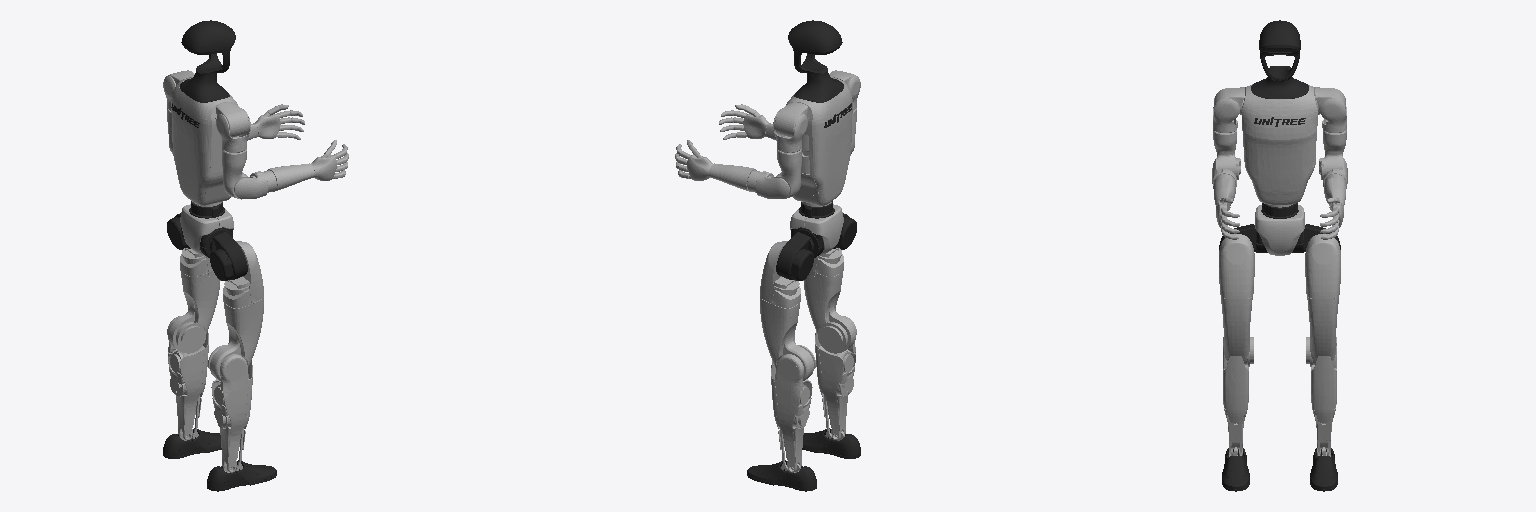
--- What the picture shows (computed from the rendered views, not written in the file) ---
The picture shows the robot from 3 angles, left to right: view 1: azimuth 30°, elevation 25°; view 2: azimuth 150°, elevation 25°; view 3: azimuth 270°, elevation 25°; orthographic projection.
Robot: g1_23dof — 33 links, 32 joints (23 revolute, 9 fixed); root link pelvis; default pose: every joint at zero.
Visible links, largest first — view 1: torso_link, right_knee_link, head_link, left_knee_link, left_hip_yaw_link, right_hip_yaw_link, right_wrist_roll_rubber_hand, right_hip_roll_link, right_hip_pitch_link, right_ankle_roll_link, left_wrist_roll_rubber_hand, pelvis_contour_link (+7 smaller); view 2: torso_link, left_knee_link, head_link, right_knee_link, right_hip_yaw_link, left_hip_yaw_link, left_wrist_roll_rubber_hand, left_hip_roll_link, left_hip_pitch_link, left_ankle_roll_link, right_wrist_roll_rubber_hand, pelvis_contour_link (+7 smaller); view 3: torso_link, head_link, left_hip_roll_link, right_hip_roll_link, left_knee_link, right_knee_link, left_hip_yaw_link, right_hip_yaw_link, pelvis_contour_link, left_wrist_roll_rubber_hand, right_wrist_roll_rubber_hand, left_ankle_roll_link (+6 smaller).
Boxes of the visible links, x1,y1,x2,y2 form: torso_link: [171, 77, 237, 196]; right_knee_link: [211, 354, 252, 472]; head_link: [180, 20, 235, 102]; left_knee_link: [167, 316, 208, 439]; left_hip_yaw_link: [168, 270, 220, 353]; right_hip_yaw_link: [208, 298, 263, 380]; right_wrist_roll_rubber_hand: [267, 140, 348, 191]; right_hip_roll_link: [223, 241, 263, 308]; right_hip_pitch_link: [210, 232, 247, 280]; right_ankle_roll_link: [207, 460, 276, 491]; left_wrist_roll_rubber_hand: [247, 104, 304, 140]; pelvis_contour_link: [180, 204, 233, 255]; torso_link: [786, 77, 852, 196]; left_knee_link: [771, 354, 812, 472]; head_link: [788, 20, 843, 102]; right_knee_link: [815, 316, 856, 439]; right_hip_yaw_link: [803, 270, 855, 353]; left_hip_yaw_link: [760, 298, 815, 380]; left_wrist_roll_rubber_hand: [675, 140, 756, 191]; left_hip_roll_link: [760, 241, 800, 308]; left_hip_pitch_link: [776, 232, 813, 280]; left_ankle_roll_link: [747, 460, 816, 491]; right_wrist_roll_rubber_hand: [719, 104, 776, 140]; pelvis_contour_link: [790, 204, 843, 255]; torso_link: [1240, 84, 1319, 194]; head_link: [1251, 20, 1308, 98]; left_hip_roll_link: [1305, 234, 1340, 298]; right_hip_roll_link: [1219, 234, 1254, 298]; left_knee_link: [1311, 337, 1336, 456]; right_knee_link: [1223, 337, 1248, 456]; left_hip_yaw_link: [1306, 297, 1338, 366]; right_hip_yaw_link: [1221, 297, 1253, 366]; pelvis_contour_link: [1255, 205, 1304, 255]; left_wrist_roll_rubber_hand: [1320, 178, 1345, 239]; right_wrist_roll_rubber_hand: [1214, 178, 1239, 239]; left_ankle_roll_link: [1310, 448, 1337, 491].
Size in the robot's own frame: 0.4417 by 0.3632 by 1.32 metres.
29 mesh visuals loaded from 29 distinct referenced files (29 binary STL).

The robot description file, URDF, robot "g1_23dof":
<robot name="g1_23dof">
  <mujoco>
    <compiler meshdir="meshes" discardvisual="false"/>
  </mujoco>

  <!-- [CAUTION] uncomment when convert to mujoco -->
  <!-- <link name="world"></link>
  <joint name="floating_base_joint" type="floating">
    <parent link="world"/>
    <child link="pelvis"/>
  </joint> -->

  <link name="pelvis">
    <inertial>
      <origin xyz="0 0 -0.07605" rpy="0 0 0"/>
      <mass value="3.813"/>
      <inertia ixx="0.010549" ixy="0" ixz="2.1E-06" iyy="0.0093089" iyz="0" izz="0.0079184"/>
    </inertial>
    <visual>
      <origin xyz="0 0 0" rpy="0 0 0"/>
      <geometry>
        <mesh filename="meshes/pelvis.STL"/>
      </geometry>
      <material name="dark">
        <color rgba="0.2 0.2 0.2 1"/>
      </material>
    </visual>
  </link>
  <link name="pelvis_contour_link">
    <inertial>
      <origin xyz="0 0 0" rpy="0 0 0"/>
      <mass value="0.001"/>
      <inertia ixx="1e-7" ixy="0" ixz="0" iyy="1e-7" iyz="0" izz="1e-7"/>
    </inertial>
    <visual>
      <origin xyz="0 0 0" rpy="0 0 0"/>
      <geometry>
        <mesh filename="meshes/pelvis_contour_link.STL"/>
      </geometry>
      <material name="white">
        <color rgba="0.7 0.7 0.7 1"/>
      </material>
    </visual>
    <collision>
      <origin xyz="0 0 0" rpy="0 0 0"/>
      <geometry>
        <mesh filename="meshes/pelvis_contour_link.STL"/>
      </geometry>
    </collision>
  </link>
  <joint name="pelvis_contour_joint" type="fixed">
    <parent link="pelvis"/>
    <child link="pelvis_contour_link"/>
  </joint>

  <!-- Legs -->
  <link name="left_hip_pitch_link">
    <inertial>
      <origin xyz="0.002741 0.047791 -0.02606" rpy="0 0 0"/>
      <mass value="1.35"/>
      <inertia ixx="0.001811" ixy="3.68E-05" ixz="-3.44E-05" iyy="0.0014193" iyz="0.000171" izz="0.0012812"/>
    </inertial>
    <visual>
      <origin xyz="0 0 0" rpy="0 0 0"/>
      <geometry>
        <mesh filename="meshes/left_hip_pitch_link.STL"/>
      </geometry>
      <material name="dark">
        <color rgba="0.2 0.2 0.2 1"/>
      </material>
    </visual>
    <collision>
      <origin xyz="0 0 0" rpy="0 0 0"/>
      <geometry>
        <mesh filename="meshes/left_hip_pitch_link.STL"/>
      </geometry>
    </collision>
  </link>
  <joint name="left_hip_pitch_joint" type="revolute">
    <origin xyz="0 0.064452 -0.1027" rpy="0 0 0"/>
    <parent link="pelvis"/>
    <child link="left_hip_pitch_link"/>
    <axis xyz="0 1 0"/>
    <limit lower="-2.5307" upper="2.8798" effort="88" velocity="32"/>
  </joint>
  <link name="left_hip_roll_link">
    <inertial>
      <origin xyz="0.029812 -0.001045 -0.087934" rpy="0 0 0"/>
      <mass value="1.52"/>
      <inertia ixx="0.0023773" ixy="-3.8E-06" ixz="-0.0003908" iyy="0.0024123" iyz="1.84E-05" izz="0.0016595"/>
    </inertial>
    <visual>
      <origin xyz="0 0 0" rpy="0 0 0"/>
      <geometry>
        <mesh filename="meshes/left_hip_roll_link.STL"/>
      </geometry>
      <material name="white">
        <color rgba="0.7 0.7 0.7 1"/>
      </material>
    </visual>
    <collision>
      <origin xyz="0 0 0" rpy="0 0 0"/>
      <geometry>
        <mesh filename="meshes/left_hip_roll_link.STL"/>
      </geometry>
    </collision>
  </link>
  <joint name="left_hip_roll_joint" type="revolute">
    <origin xyz="0 0.052 -0.030465" rpy="0 -0.1749 0"/>
    <parent link="left_hip_pitch_link"/>
    <child link="left_hip_roll_link"/>
    <axis xyz="1 0 0"/>
    <limit lower="-0.5236" upper="2.9671" effort="88" velocity="32"/>
  </joint>
  <link name="left_hip_yaw_link">
    <inertial>
      <origin xyz="-0.057709 -0.010981 -0.15078" rpy="0 0 0"/>
      <mass value="1.702"/>
      <inertia ixx="0.0057774" ixy="-0.0005411" ixz="-0.0023948" iyy="0.0076124" iyz="-0.0007072" izz="0.003149"/>
    </inertial>
    <visual>
      <origin xyz="0 0 0" rpy="0 0 0"/>
      <geometry>
        <mesh filename="meshes/left_hip_yaw_link.STL"/>
      </geometry>
      <material name="white">
        <color rgba="0.7 0.7 0.7 1"/>
      </material>
    </visual>
    <collision>
      <origin xyz="0 0 0" rpy="0 0 0"/>
      <geometry>
        <mesh filename="meshes/left_hip_yaw_link.STL"/>
      </geometry>
    </collision>
  </link>
  <joint name="left_hip_yaw_joint" type="revolute">
    <origin xyz="0.025001 0 -0.12412" rpy="0 0 0"/>
    <parent link="left_hip_roll_link"/>
    <child link="left_hip_yaw_link"/>
    <axis xyz="0 0 1"/>
    <limit lower="-2.7576" upper="2.7576" effort="88" velocity="32"/>
  </joint>
  <link name="left_knee_link">
    <inertial>
      <origin xyz="0.005457 0.003964 -0.12074" rpy="0 0 0"/>
      <mass value="1.932"/>
      <inertia ixx="0.011329" ixy="4.82E-05" ixz="-4.49E-05" iyy="0.011277" iyz="-0.0007146" izz="0.0015168"/>
    </inertial>
    <visual>
      <origin xyz="0 0 0" rpy="0 0 0"/>
      <geometry>
        <mesh filename="meshes/left_knee_link.STL"/>
      </geometry>
      <material name="white">
        <color rgba="0.7 0.7 0.7 1"/>
      </material>
    </visual>
    <collision>
      <origin xyz="0 0 0" rpy="0 0 0"/>
      <geometry>
        <mesh filename="meshes/left_knee_link.STL"/>
      </geometry>
    </collision>
  </link>
  <joint name="left_knee_joint" type="revolute">
    <origin xyz="-0.078273 0.0021489 -0.17734" rpy="0 0.1749 0"/>
    <parent link="left_hip_yaw_link"/>
    <child link="left_knee_link"/>
    <axis xyz="0 1 0"/>
    <limit lower="-0.087267" upper="2.8798" effort="139" velocity="20"/>
  </joint>
  <link name="left_ankle_pitch_link">
    <inertial>
      <origin xyz="-0.007269 0 0.011137" rpy="0 0 0"/>
      <mass value="0.074"/>
      <inertia ixx="8.4E-06" ixy="0" ixz="-2.9E-06" iyy="1.89E-05" iyz="0" izz="1.26E-05"/>
    </inertial>
    <visual>
      <origin xyz="0 0 0" rpy="0 0 0"/>
      <geometry>
        <mesh filename="meshes/left_ankle_pitch_link.STL"/>
      </geometry>
      <material name="white">
        <color rgba="0.7 0.7 0.7 1"/>
      </material>
    </visual>
    <collision>
      <origin xyz="0 0 0" rpy="0 0 0"/>
      <geometry>
        <mesh filename="meshes/left_ankle_pitch_link.STL"/>
      </geometry>
    </collision>
  </link>
  <joint name="left_ankle_pitch_joint" type="revolute">
    <origin xyz="0 -9.4445E-05 -0.30001" rpy="0 0 0"/>
    <parent link="left_knee_link"/>
    <child link="left_ankle_pitch_link"/>
    <axis xyz="0 1 0"/>
    <limit lower="-0.87267" upper="0.5236" effort="50" velocity="37"/>
  </joint>
  <link name="left_ankle_roll_link">
    <inertial>
      <origin xyz="0.026505 0 -0.016425" rpy="0 0 0"/>
      <mass value="0.608"/>
      <inertia ixx="0.0002231" ixy="2E-07" ixz="8.91E-05" iyy="0.0016161" iyz="-1E-07" izz="0.0016667"/>
    </inertial>
    <visual>
      <origin xyz="0 0 0" rpy="0 0 0"/>
      <geometry>
        <mesh filename="meshes/left_ankle_roll_link.STL"/>
      </geometry>
      <material name="dark">
        <color rgba="0.2 0.2 0.2 1"/>
      </material>
    </visual>
    <collision>
      <origin xyz="-0.05 0.025 -0.03" rpy="0 0 0"/>
      <geometry>
        <sphere radius="0.005"/>
      </geometry>
    </collision>
    <collision>
      <origin xyz="-0.05 -0.025 -0.03" rpy="0 0 0"/>
      <geometry>
        <sphere radius="0.005"/>
      </geometry>
    </collision>
    <collision>
      <origin xyz="0.12 0.03 -0.03" rpy="0 0 0"/>
      <geometry>
        <sphere radius="0.005"/>
      </geometry>
    </collision>
    <collision>
      <origin xyz="0.12 -0.03 -0.03" rpy="0 0 0"/>
      <geometry>
        <sphere radius="0.005"/>
      </geometry>
    </collision>
  </link>
  <joint name="left_ankle_roll_joint" type="revolute">
    <origin xyz="0 0 -0.017558" rpy="0 0 0"/>
    <parent link="left_ankle_pitch_link"/>
    <child link="left_ankle_roll_link"/>
    <axis xyz="1 0 0"/>
    <limit lower="-0.2618" upper="0.2618" effort="50" velocity="37"/>
  </joint>
  <link name="right_hip_pitch_link">
    <inertial>
      <origin xyz="0.002741 -0.047791 -0.02606" rpy="0 0 0"/>
      <mass value="1.35"/>
      <inertia ixx="0.001811" ixy="-3.68E-05" ixz="-3.44E-05" iyy="0.0014193" iyz="-0.000171" izz="0.0012812"/>
    </inertial>
    <visual>
      <origin xyz="0 0 0" rpy="0 0 0"/>
      <geometry>
        <mesh filename="meshes/right_hip_pitch_link.STL"/>
      </geometry>
      <material name="dark">
        <color rgba="0.2 0.2 0.2 1"/>
      </material>
    </visual>
    <collision>
      <origin xyz="0 0 0" rpy="0 0 0"/>
      <geometry>
        <mesh filename="meshes/right_hip_pitch_link.STL"/>
      </geometry>
    </collision>
  </link>
  <joint name="right_hip_pitch_joint" type="revolute">
    <origin xyz="0 -0.064452 -0.1027" rpy="0 0 0"/>
    <parent link="pelvis"/>
    <child link="right_hip_pitch_link"/>
    <axis xyz="0 1 0"/>
    <limit lower="-2.5307" upper="2.8798" effort="88" velocity="32"/>
  </joint>
  <link name="right_hip_roll_link">
    <inertial>
      <origin xyz="0.029812 0.001045 -0.087934" rpy="0 0 0"/>
      <mass value="1.52"/>
      <inertia ixx="0.0023773" ixy="3.8E-06" ixz="-0.0003908" iyy="0.0024123" iyz="-1.84E-05" izz="0.0016595"/>
    </inertial>
    <visual>
      <origin xyz="0 0 0" rpy="0 0 0"/>
      <geometry>
        <mesh filename="meshes/right_hip_roll_link.STL"/>
      </geometry>
      <material name="white">
        <color rgba="0.7 0.7 0.7 1"/>
      </material>
    </visual>
    <collision>
      <origin xyz="0 0 0" rpy="0 0 0"/>
      <geometry>
        <mesh filename="meshes/right_hip_roll_link.STL"/>
      </geometry>
    </collision>
  </link>
  <joint name="right_hip_roll_joint" type="revolute">
    <origin xyz="0 -0.052 -0.030465" rpy="0 -0.1749 0"/>
    <parent link="right_hip_pitch_link"/>
    <child link="right_hip_roll_link"/>
    <axis xyz="1 0 0"/>
    <limit lower="-2.9671" upper="0.5236" effort="88" velocity="32"/>
  </joint>
  <link name="right_hip_yaw_link">
    <inertial>
      <origin xyz="-0.057709 0.010981 -0.15078" rpy="0 0 0"/>
      <mass value="1.702"/>
      <inertia ixx="0.0057774" ixy="0.0005411" ixz="-0.0023948" iyy="0.0076124" iyz="0.0007072" izz="0.003149"/>
    </inertial>
    <visual>
      <origin xyz="0 0 0" rpy="0 0 0"/>
      <geometry>
        <mesh filename="meshes/right_hip_yaw_link.STL"/>
      </geometry>
      <material name="white">
        <color rgba="0.7 0.7 0.7 1"/>
      </material>
    </visual>
    <collision>
      <origin xyz="0 0 0" rpy="0 0 0"/>
      <geometry>
        <mesh filename="meshes/right_hip_yaw_link.STL"/>
      </geometry>
    </collision>
  </link>
  <joint name="right_hip_yaw_joint" type="revolute">
    <origin xyz="0.025001 0 -0.12412" rpy="0 0 0"/>
    <parent link="right_hip_roll_link"/>
    <child link="right_hip_yaw_link"/>
    <axis xyz="0 0 1"/>
    <limit lower="-2.7576" upper="2.7576" effort="88" velocity="32"/>
  </joint>
  <link name="right_knee_link">
    <inertial>
      <origin xyz="0.005457 -0.003964 -0.12074" rpy="0 0 0"/>
      <mass value="1.932"/>
      <inertia ixx="0.011329" ixy="-4.82E-05" ixz="4.49E-05" iyy="0.011277" iyz="0.0007146" izz="0.0015168"/>
    </inertial>
    <visual>
      <origin xyz="0 0 0" rpy="0 0 0"/>
      <geometry>
        <mesh filename="meshes/right_knee_link.STL"/>
      </geometry>
      <material name="white">
        <color rgba="0.7 0.7 0.7 1"/>
      </material>
    </visual>
    <collision>
      <origin xyz="0 0 0" rpy="0 0 0"/>
      <geometry>
        <mesh filename="meshes/right_knee_link.STL"/>
      </geometry>
    </collision>
  </link>
  <joint name="right_knee_joint" type="revolute">
    <origin xyz="-0.078273 -0.0021489 -0.17734" rpy="0 0.1749 0"/>
    <parent link="right_hip_yaw_link"/>
    <child link="right_knee_link"/>
    <axis xyz="0 1 0"/>
    <limit lower="-0.087267" upper="2.8798" effort="139" velocity="20"/>
  </joint>
  <link name="right_ankle_pitch_link">
    <inertial>
      <origin xyz="-0.007269 0 0.011137" rpy="0 0 0"/>
      <mass value="0.074"/>
      <inertia ixx="8.4E-06" ixy="0" ixz="-2.9E-06" iyy="1.89E-05" iyz="0" izz="1.26E-05"/>
    </inertial>
    <visual>
      <origin xyz="0 0 0" rpy="0 0 0"/>
      <geometry>
        <mesh filename="meshes/right_ankle_pitch_link.STL"/>
      </geometry>
      <material name="white">
        <color rgba="0.7 0.7 0.7 1"/>
      </material>
    </visual>
    <collision>
      <origin xyz="0 0 0" rpy="0 0 0"/>
      <geometry>
        <mesh filename="meshes/right_ankle_pitch_link.STL"/>
      </geometry>
    </collision>
  </link>
  <joint name="right_ankle_pitch_joint" type="revolute">
    <origin xyz="0 9.4445E-05 -0.30001" rpy="0 0 0"/>
    <parent link="right_knee_link"/>
    <child link="right_ankle_pitch_link"/>
    <axis xyz="0 1 0"/>
    <limit lower="-0.87267" upper="0.5236" effort="50" velocity="37"/>
  </joint>
  <link name="right_ankle_roll_link">
    <inertial>
      <origin xyz="0.026505 0 -0.016425" rpy="0 0 0"/>
      <mass value="0.608"/>
      <inertia ixx="0.0002231" ixy="-2E-07" ixz="8.91E-05" iyy="0.0016161" iyz="1E-07" izz="0.0016667"/>
    </inertial>
    <visual>
      <origin xyz="0 0 0" rpy="0 0 0"/>
      <geometry>
        <mesh filename="meshes/right_ankle_roll_link.STL"/>
      </geometry>
      <material name="dark">
        <color rgba="0.2 0.2 0.2 1"/>
      </material>
    </visual>
    <collision>
      <origin xyz="-0.05 0.025 -0.03" rpy="0 0 0"/>
      <geometry>
        <sphere radius="0.005"/>
      </geometry>
    </collision>
    <collision>
      <origin xyz="-0.05 -0.025 -0.03" rpy="0 0 0"/>
      <geometry>
        <sphere radius="0.005"/>
      </geometry>
    </collision>
    <collision>
      <origin xyz="0.12 0.03 -0.03" rpy="0 0 0"/>
      <geometry>
        <sphere radius="0.005"/>
      </geometry>
    </collision>
    <collision>
      <origin xyz="0.12 -0.03 -0.03" rpy="0 0 0"/>
      <geometry>
        <sphere radius="0.005"/>
      </geometry>
    </collision>
  </link>
  <joint name="right_ankle_roll_joint" type="revolute">
    <origin xyz="0 0 -0.017558" rpy="0 0 0"/>
    <parent link="right_ankle_pitch_link"/>
    <child link="right_ankle_roll_link"/>
    <axis xyz="1 0 0"/>
    <limit lower="-0.2618" upper="0.2618" effort="50" velocity="37"/>
  </joint>

  <!-- Torso -->
  <link name="waist_yaw_fixed_link">
    <inertial>
      <origin xyz="0.003964 0 0.018769" rpy="0 0 0"/>
      <mass value="0.244"/>
      <inertia ixx="9.9587E-05" ixy="-1.833E-06" ixz="-1.2617E-05" iyy="0.00012411" iyz="-1.18E-07" izz="0.00015586"/>
    </inertial>
    <visual>
      <origin xyz="0 0 0" rpy="0 0 0"/>
      <geometry>
        <mesh filename="meshes/waist_yaw_link.STL"/>
      </geometry>
      <material name="white">
        <color rgba="0.7 0.7 0.7 1"/>
      </material>
    </visual>
  </link>
  <joint name="waist_yaw_fixed_joint" type="fixed">
    <origin xyz="0.0039635 0 -0.054" rpy="0 0 0"/>
    <parent link="torso_link"/>
    <child link="waist_yaw_fixed_link"/>
  </joint>
  <joint name="waist_yaw_joint" type="revolute">
    <origin xyz="-0.0039635 0 0.054" rpy="0 0 0"/>
    <parent link="pelvis"/>
    <child link="torso_link"/>
    <axis xyz="0 0 1"/>
    <limit lower="-2.618" upper="2.618" effort="88" velocity="32"/>
  </joint>
  <link name="torso_link">
    <inertial>
      <origin xyz="0.002601 0.000257 0.153719" rpy="0 0 0"/>
      <mass value="8.562"/>
      <inertia ixx="0.065674966" ixy="-8.597E-05" ixz="-0.001737252" iyy="0.053535188" iyz="8.6899E-05" izz="0.030808125"/>
    </inertial>
    <visual>
      <origin xyz="0 0 0" rpy="0 0 0"/>
      <geometry>
        <mesh filename="meshes/torso_link.STL"/>
      </geometry>
      <material name="white">
        <color rgba="0.7 0.7 0.7 1"/>
      </material>
    </visual>
    <collision>
      <origin xyz="0 0 0" rpy="0 0 0"/>
      <geometry>
        <mesh filename="meshes/torso_link.STL"/>
      </geometry>
    </collision>
  </link>

  <!-- LOGO -->
  <joint name="logo_joint" type="fixed">
    <origin xyz="0.0039635 0 -0.054" rpy="0 0 0"/>
    <parent link="torso_link"/>
    <child link="logo_link"/>
  </joint>
  <link name="logo_link">
    <inertial>
      <origin xyz="0 0 0" rpy="0 0 0"/>
      <mass value="0.001"/>
      <inertia ixx="1e-7" ixy="0" ixz="0" iyy="1e-7" iyz="0" izz="1e-7"/>
    </inertial>
    <visual>
      <origin xyz="0 0 0" rpy="0 0 0"/>
      <geometry>
        <mesh filename="meshes/logo_link.STL"/>
      </geometry>
      <material name="dark">
        <color rgba="0.2 0.2 0.2 1"/>
      </material>
    </visual>
    <collision>
      <origin xyz="0 0 0" rpy="0 0 0"/>
      <geometry>
        <mesh filename="meshes/logo_link.STL"/>
      </geometry>
    </collision>
  </link>

  <!-- Head -->
  <link name="head_link">
    <inertial>
      <origin xyz="0.005267 0.000299 0.449869" rpy="0 0 0"/>
      <mass value="1.036"/>
      <inertia ixx="0.004085051" ixy="-2.543E-06" ixz="-6.9455E-05" iyy="0.004185212" iyz="-3.726E-06" izz="0.001807911"/>
    </inertial>
    <visual>
      <origin xyz="0 0 0" rpy="0 0 0"/>
      <geometry>
        <mesh filename="meshes/head_link.STL"/>
      </geometry>
      <material name="dark">
        <color rgba="0.2 0.2 0.2 1"/>
      </material>
    </visual>
    <collision>
      <origin xyz="0 0 0" rpy="0 0 0"/>
      <geometry>
        <mesh filename="meshes/head_link.STL"/>
      </geometry>
    </collision>
  </link>
  <joint name="head_joint" type="fixed">
    <origin xyz="0.0039635 0 -0.054" rpy="0 0 0"/>
    <parent link="torso_link"/>
    <child link="head_link"/>
  </joint>

  <!-- Waist Support -->
  <link name="waist_support_link">
    <inertial>
      <origin xyz="0 0 0" rpy="0 0 0"/>
      <mass value="0.001"/>
      <inertia ixx="1e-7" ixy="0" ixz="0" iyy="1e-7" iyz="0" izz="1e-7"/>
    </inertial>
    <visual>
      <origin xyz="0 0 0" rpy="0 0 0"/>
      <geometry>
        <mesh filename="meshes/waist_support_link.STL"/>
      </geometry>
      <material name="white">
        <color rgba="0.7 0.7 0.7 1"/>
      </material>
    </visual>
    <collision>
      <origin xyz="0 0 0" rpy="0 0 0"/>
      <geometry>
        <mesh filename="meshes/waist_support_link.STL"/>
      </geometry>
    </collision>
  </link>
  <joint name="waist_support_joint" type="fixed">
    <origin xyz="0.0039635 0 -0.054" rpy="0 0 0"/>
    <parent link="torso_link"/>
    <child link="waist_support_link"/>
  </joint>

  <!-- IMU -->
  <link name="imu_in_torso"></link>
  <joint name="imu_in_torso_joint" type="fixed">
    <origin xyz="-0.03959 -0.00224 0.13792" rpy="0 0 0"/>
    <parent link="torso_link"/>
    <child link="imu_in_torso"/>
  </joint>

  <link name="imu_in_pelvis"></link>
  <joint name="imu_in_pelvis_joint" type="fixed">
    <origin xyz="0.04525 0 -0.08339" rpy="0 0 0"/>
    <parent link="pelvis"/>
    <child link="imu_in_pelvis"/>
  </joint>

  <!-- d435 -->
  <link name="d435_link"></link>
  <joint name="d435_joint" type="fixed">
    <origin xyz="0.0576235 0.01753 0.41987" rpy="0 0.8307767239493009 0"/>
    <parent link="torso_link"/>
    <child link="d435_link"/>
  </joint>

  <!-- mid360 -->
  <link name="mid360_link"></link>
  <joint name="mid360_joint" type="fixed">
    <origin xyz="0.0002835 0.00003 0.40618" rpy="0 0.04014257279586953 0"/>
    <parent link="torso_link"/>
    <child link="mid360_link"/>
  </joint>

  <!-- Arm -->
  <link name="left_shoulder_pitch_link">
    <inertial>
      <origin xyz="0 0.035892 -0.011628" rpy="0 0 0"/>
      <mass value="0.718"/>
      <inertia ixx="0.0004291" ixy="-9.2E-06" ixz="6.4E-06" iyy="0.000453" iyz="2.26E-05" izz="0.000423"/>
    </inertial>
    <visual>
      <origin xyz="0 0 0" rpy="0 0 0"/>
      <geometry>
        <mesh filename="meshes/left_shoulder_pitch_link.STL"/>
      </geometry>
      <material name="white">
        <color rgba="0.7 0.7 0.7 1"/>
      </material>
    </visual>
    <collision>
      <origin xyz="0 0.04 -0.01" rpy="0 1.5707963267948966 0"/>
      <geometry>
        <cylinder radius="0.03" length="0.05"/>
      </geometry>
    </collision>
  </link>
  <joint name="left_shoulder_pitch_joint" type="revolute">
    <origin xyz="0.0039563 0.10022 0.23778" rpy="0.27931 5.4949E-05 -0.00019159"/>
    <parent link="torso_link"/>
    <child link="left_shoulder_pitch_link"/>
    <axis xyz="0 1 0"/>
    <limit lower="-3.0892" upper="2.6704" effort="25" velocity="37"/>
  </joint>
  <link name="left_shoulder_roll_link">
    <inertial>
      <origin xyz="-0.000227 0.00727 -0.063243" rpy="0 0 0"/>
      <mass value="0.643"/>
      <inertia ixx="0.0006177" ixy="-1E-06" ixz="8.7E-06" iyy="0.0006912" iyz="-5.3E-06" izz="0.0003894"/>
    </inertial>
    <visual>
      <origin xyz="0 0 0" rpy="0 0 0"/>
      <geometry>
        <mesh filename="meshes/left_shoulder_roll_link.STL"/>
      </geometry>
      <material name="white">
        <color rgba="0.7 0.7 0.7 1"/>
      </material>
    </visual>
    <collision>
      <origin xyz="-0.004 0.006 -0.053" rpy="0 0 0"/>
      <geometry>
        <cylinder radius="0.03" length="0.03"/>
      </geometry>
    </collision>
  </link>
  <joint name="left_shoulder_roll_joint" type="revolute">
    <origin xyz="0 0.038 -0.013831" rpy="-0.27925 0 0"/>
    <parent link="left_shoulder_pitch_link"/>
    <child link="left_shoulder_roll_link"/>
    <axis xyz="1 0 0"/>
    <limit lower="-1.5882" upper="2.2515" effort="25" velocity="37"/>
  </joint>
  <link name="left_shoulder_yaw_link">
    <inertial>
      <origin xyz="0.010773 -0.002949 -0.072009" rpy="0 0 0"/>
      <mass value="0.734"/>
      <inertia ixx="0.0009988" ixy="7.9E-06" ixz="0.0001412" iyy="0.0010605" iyz="-2.86E-05" izz="0.0004354"/>
    </inertial>
    <visual>
      <origin xyz="0 0 0" rpy="0 0 0"/>
      <geometry>
        <mesh filename="meshes/left_shoulder_yaw_link.STL"/>
      </geometry>
      <material name="white">
        <color rgba="0.7 0.7 0.7 1"/>
      </material>
    </visual>
    <collision>
      <origin xyz="0 0 0" rpy="0 0 0"/>
      <geometry>
        <mesh filename="meshes/left_shoulder_yaw_link.STL"/>
      </geometry>
    </collision>
  </link>
  <joint name="left_shoulder_yaw_joint" type="revolute">
    <origin xyz="0 0.00624 -0.1032" rpy="0 0 0"/>
    <parent link="left_shoulder_roll_link"/>
    <child link="left_shoulder_yaw_link"/>
    <axis xyz="0 0 1"/>
    <limit lower="-2.618" upper="2.618" effort="25" velocity="37"/>
  </joint>
  <link name="left_elbow_link">
    <inertial>
      <origin xyz="0.064956 0.004454 -0.010062" rpy="0 0 0"/>
      <mass value="0.6"/>
      <inertia ixx="0.0002891" ixy="6.53E-05" ixz="1.72E-05" iyy="0.0004152" iyz="-5.6E-06" izz="0.0004197"/>
    </inertial>
    <visual>
      <origin xyz="0 0 0" rpy="0 0 0"/>
      <geometry>
        <mesh filename="meshes/left_elbow_link.STL"/>
      </geometry>
      <material name="white">
        <color rgba="0.7 0.7 0.7 1"/>
      </material>
    </visual>
    <collision>
      <origin xyz="0 0 0" rpy="0 0 0"/>
      <geometry>
        <mesh filename="meshes/left_elbow_link.STL"/>
      </geometry>
    </collision>
  </link>
  <joint name="left_elbow_joint" type="revolute">
    <origin xyz="0.015783 0 -0.080518" rpy="0 0 0"/>
    <parent link="left_shoulder_yaw_link"/>
    <child link="left_elbow_link"/>
    <axis xyz="0 1 0"/>
    <limit lower="-1.0472" upper="2.0944" effort="25" velocity="37"/>
  </joint>
  <joint name="left_wrist_roll_joint" type="revolute">
    <origin xyz="0.100 0.00188791 -0.010" rpy="0 0 0"/>
    <axis xyz="1 0 0"/>
    <parent link="left_elbow_link"/>
    <child link="left_wrist_roll_rubber_hand"/>
    <limit effort="25" velocity="37" lower="-1.972222054" upper="1.972222054"/>
  </joint>
  <link name="left_wrist_roll_rubber_hand">
    <inertial>
      <origin xyz="0.10794656650 0.00163511945 0.00202244863" rpy="0 0 0"/>
      <mass value="0.35692864"/>
      <inertia ixx="0.00019613494735" ixy="-0.00000419816908" ixz="-0.00003950860580" iyy="0.00200280358206" iyz="0.00000249774203" izz="0.00194181412808"/>
    </inertial>
    <visual>
      <origin xyz="0 0 0" rpy="0 0 0"/>
      <geometry>
        <mesh filename="meshes/left_wrist_roll_rubber_hand.STL"/>
      </geometry>
      <material name="white">
        <color rgba="0.7 0.7 0.7 1"/>
      </material>
    </visual>
    <collision>
      <origin xyz="0 0 0" rpy="0 0 0"/>
      <geometry>
        <mesh filename="meshes/left_wrist_roll_rubber_hand.STL"/>
      </geometry>
    </collision>
  </link>
  <link name="right_shoulder_pitch_link">
    <inertial>
      <origin xyz="0 -0.035892 -0.011628" rpy="0 0 0"/>
      <mass value="0.718"/>
      <inertia ixx="0.0004291" ixy="9.2E-06" ixz="6.4E-06" iyy="0.000453" iyz="-2.26E-05" izz="0.000423"/>
    </inertial>
    <visual>
      <origin xyz="0 0 0" rpy="0 0 0"/>
      <geometry>
        <mesh filename="meshes/right_shoulder_pitch_link.STL"/>
      </geometry>
      <material name="white">
        <color rgba="0.7 0.7 0.7 1"/>
      </material>
    </visual>
    <collision>
      <origin xyz="0 -0.04 -0.01" rpy="0 1.5707963267948966 0"/>
      <geometry>
        <cylinder radius="0.03" length="0.05"/>
      </geometry>
    </collision>
  </link>
  <joint name="right_shoulder_pitch_joint" type="revolute">
    <origin xyz="0.0039563 -0.10021 0.23778" rpy="-0.27931 5.4949E-05 0.00019159"/>
    <parent link="torso_link"/>
    <child link="right_shoulder_pitch_link"/>
    <axis xyz="0 1 0"/>
    <limit lower="-3.0892" upper="2.6704" effort="25" velocity="37"/>
  </joint>
  <link name="right_shoulder_roll_link">
    <inertial>
      <origin xyz="-0.000227 -0.00727 -0.063243" rpy="0 0 0"/>
      <mass value="0.643"/>
      <inertia ixx="0.0006177" ixy="1E-06" ixz="8.7E-06" iyy="0.0006912" iyz="5.3E-06" izz="0.0003894"/>
    </inertial>
    <visual>
      <origin xyz="0 0 0" rpy="0 0 0"/>
      <geometry>
        <mesh filename="meshes/right_shoulder_roll_link.STL"/>
      </geometry>
      <material name="white">
        <color rgba="0.7 0.7 0.7 1"/>
      </material>
    </visual>
    <collision>
      <origin xyz="-0.004 -0.006 -0.053" rpy="0 0 0"/>
      <geometry>
        <cylinder radius="0.03" length="0.03"/>
      </geometry>
    </collision>
  </link>
  <joint name="right_shoulder_roll_joint" type="revolute">
    <origin xyz="0 -0.038 -0.013831" rpy="0.27925 0 0"/>
    <parent link="right_shoulder_pitch_link"/>
    <child link="right_shoulder_roll_link"/>
    <axis xyz="1 0 0"/>
    <limit lower="-2.2515" upper="1.5882" effort="25" velocity="37"/>
  </joint>
  <link name="right_shoulder_yaw_link">
    <inertial>
      <origin xyz="0.010773 0.002949 -0.072009" rpy="0 0 0"/>
      <mass value="0.734"/>
      <inertia ixx="0.0009988" ixy="-7.9E-06" ixz="0.0001412" iyy="0.0010605" iyz="2.86E-05" izz="0.0004354"/>
    </inertial>
    <visual>
      <origin xyz="0 0 0" rpy="0 0 0"/>
      <geometry>
        <mesh filename="meshes/right_shoulder_yaw_link.STL"/>
      </geometry>
      <material name="white">
        <color rgba="0.7 0.7 0.7 1"/>
      </material>
    </visual>
    <collision>
      <origin xyz="0 0 0" rpy="0 0 0"/>
      <geometry>
        <mesh filename="meshes/right_shoulder_yaw_link.STL"/>
      </geometry>
    </collision>
  </link>
  <joint name="right_shoulder_yaw_joint" type="revolute">
    <origin xyz="0 -0.00624 -0.1032" rpy="0 0 0"/>
    <parent link="right_shoulder_roll_link"/>
    <child link="right_shoulder_yaw_link"/>
    <axis xyz="0 0 1"/>
    <limit lower="-2.618" upper="2.618" effort="25" velocity="37"/>
  </joint>
  <link name="right_elbow_link">
    <inertial>
      <origin xyz="0.064956 -0.004454 -0.010062" rpy="0 0 0"/>
      <mass value="0.6"/>
      <inertia ixx="0.0002891" ixy="-6.53E-05" ixz="1.72E-05" iyy="0.0004152" iyz="5.6E-06" izz="0.0004197"/>
    </inertial>
    <visual>
      <origin xyz="0 0 0" rpy="0 0 0"/>
      <geometry>
        <mesh filename="meshes/right_elbow_link.STL"/>
      </geometry>
      <material name="white">
        <color rgba="0.7 0.7 0.7 1"/>
      </material>
    </visual>
    <collision>
      <origin xyz="0 0 0" rpy="0 0 0"/>
      <geometry>
        <mesh filename="meshes/right_elbow_link.STL"/>
      </geometry>
    </collision>
  </link>
  <joint name="right_elbow_joint" type="revolute">
    <origin xyz="0.015783 0 -0.080518" rpy="0 0 0"/>
    <parent link="right_shoulder_yaw_link"/>
    <child link="right_elbow_link"/>
    <axis xyz="0 1 0"/>
    <limit lower="-1.0472" upper="2.0944" effort="25" velocity="37"/>
  </joint>
  <joint name="right_wrist_roll_joint" type="revolute">
    <origin xyz="0.100 -0.00188791 -0.010" rpy="0 0 0"/>
    <axis xyz="1 0 0"/>
    <parent link="right_elbow_link"/>
    <child link="right_wrist_roll_rubber_hand"/>
    <limit effort="25" velocity="37" lower="-1.972222054" upper="1.972222054"/>
  </joint>
  <link name="right_wrist_roll_rubber_hand">
    <inertial>
      <origin xyz="0.10794656650 -0.00163511945 0.00202244863" rpy="0 0 0"/>
      <mass value="0.35692864"/>
      <inertia ixx="0.00019613494735" ixy="0.00000419816908" ixz="-0.00003950860580" iyy="0.00200280358206" iyz="-0.00000249774203" izz="0.00194181412808"/>
    </inertial>
    <visual>
      <origin xyz="0 0 0" rpy="0 0 0"/>
      <geometry>
        <mesh filename="meshes/right_wrist_roll_rubber_hand.STL"/>
      </geometry>
      <material name="white">
        <color rgba="0.7 0.7 0.7 1"/>
      </material>
    </visual>
    <collision>
      <origin xyz="0 0 0" rpy="0 0 0"/>
      <geometry>
        <mesh filename="meshes/right_wrist_roll_rubber_hand.STL"/>
      </geometry>
    </collision>
  </link>
</robot>
